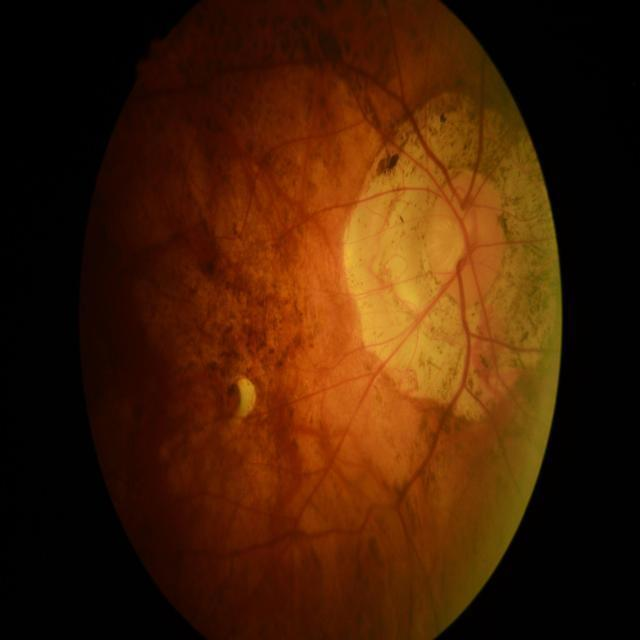cup: (435, 202, 475, 282)
disk: (428, 170, 509, 308)
